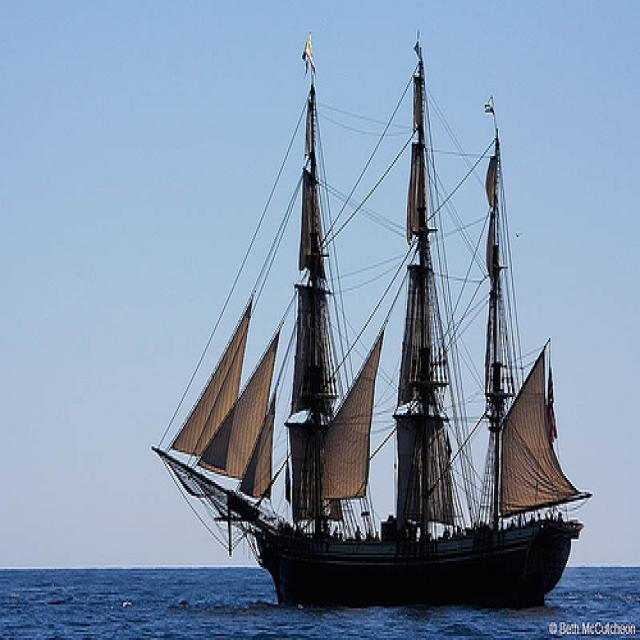Ship: (148, 59, 578, 609)
